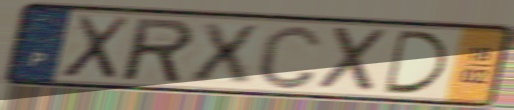C: (253, 22, 326, 92)
D: (381, 28, 451, 96)
R: (121, 16, 197, 86)
X: (316, 24, 394, 95), (57, 13, 134, 82), (187, 20, 262, 84)
